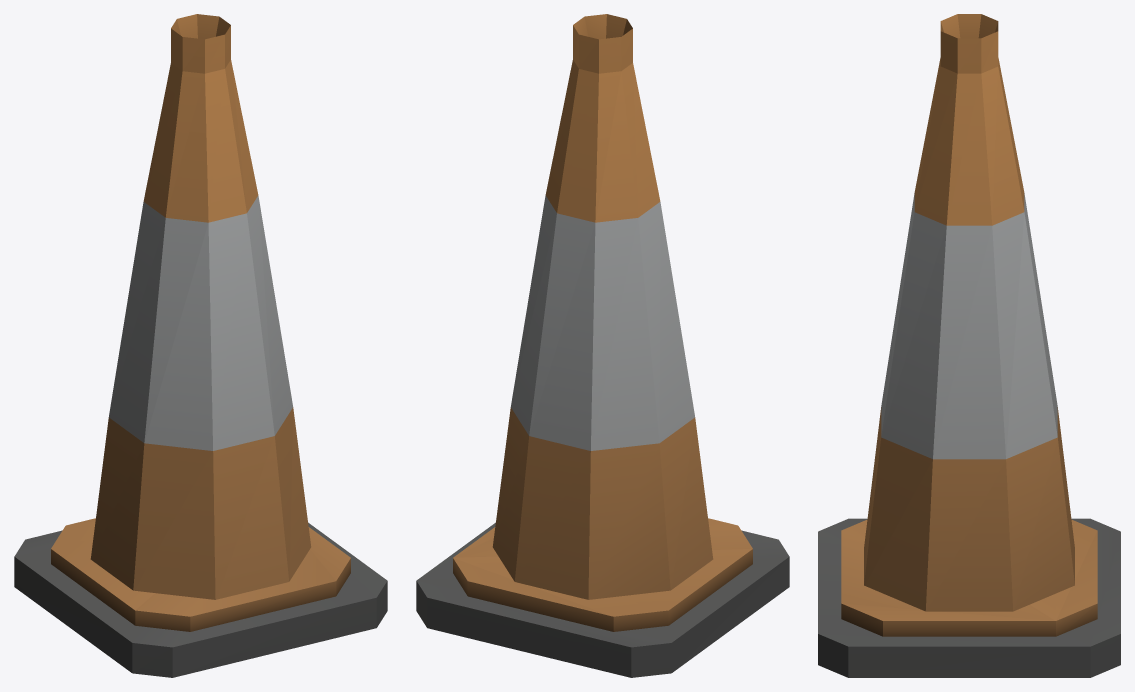
The picture shows the model from 3 angles, left to right: view 1: azimuth 30°, elevation 25°; view 2: azimuth 150°, elevation 25°; view 3: azimuth 270°, elevation 25°; orthographic projection. The views are drawn at different scales.
Parts seen in each view (by area): view 1: cone; view 2: cone; view 3: cone.
Boxes of the visible parts, x1,y1,x2,y2 form: cone: (14,14,387,677); cone: (416,14,789,677); cone: (818,14,1120,677).
Bounding box in the file's own units: 0.35 × 0.75 × 0.35.
